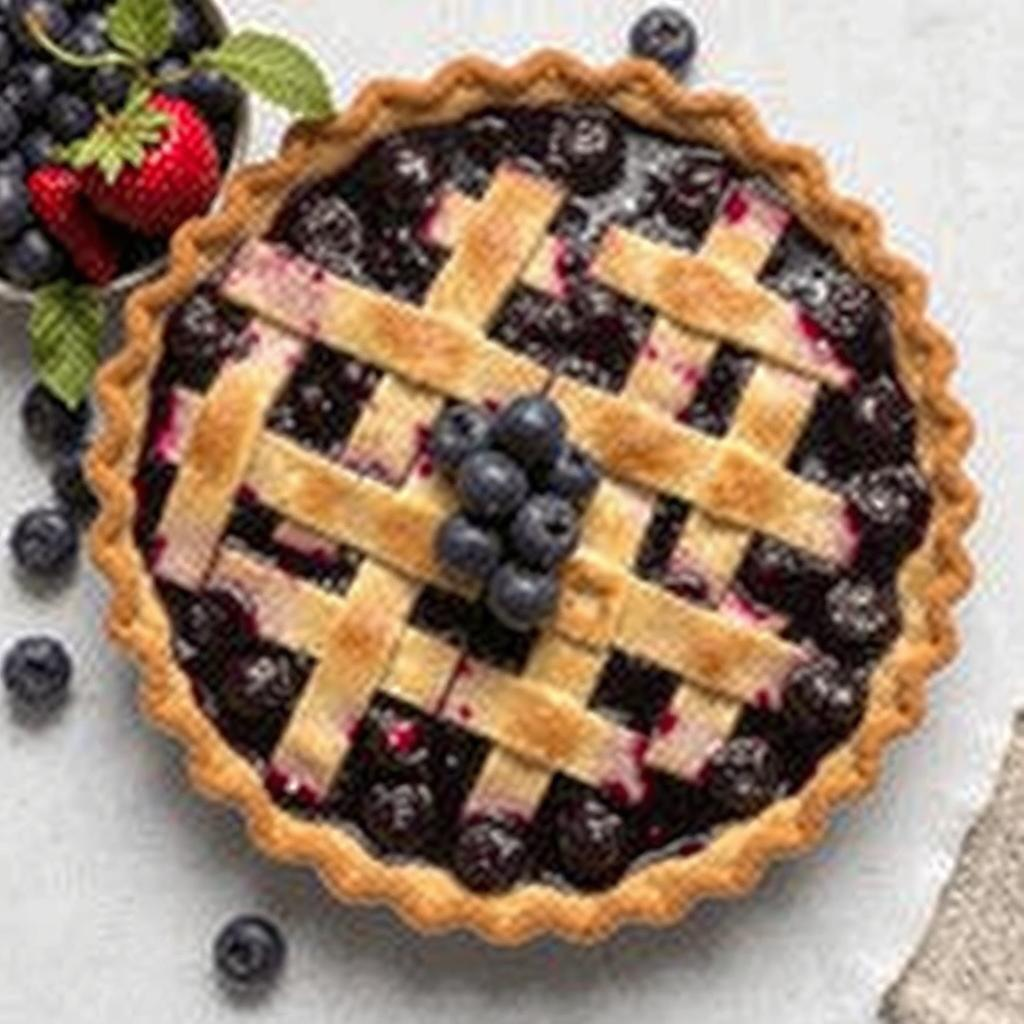pie: (76, 43, 983, 947)
